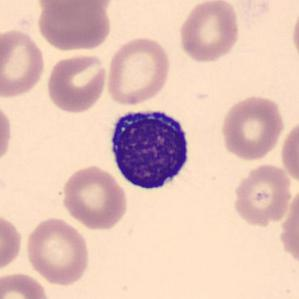Lymphocyte: (104, 102, 196, 195)
RBC: (104, 34, 173, 107), (23, 215, 91, 287), (59, 163, 130, 231), (218, 94, 286, 162), (177, 0, 243, 64), (231, 162, 294, 228), (34, 0, 113, 52), (44, 52, 109, 114), (0, 27, 47, 99), (0, 210, 24, 274), (278, 117, 299, 187), (0, 270, 50, 298), (33, 0, 113, 17), (0, 99, 15, 167), (289, 3, 299, 64)
